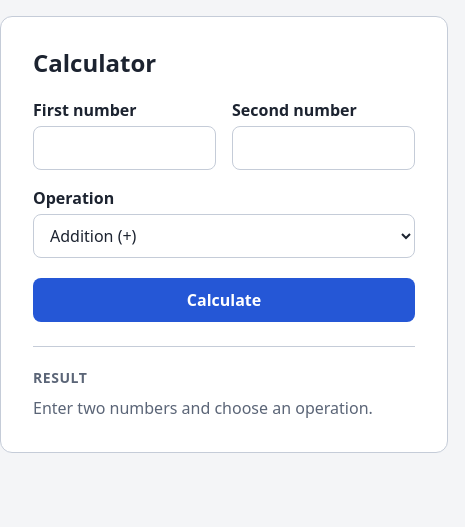
Test: Calculator › sends decimals and negatives as numbers
Type "-1.5" into the field labelled "First number".
click(124, 148); type("-1.5")  # box [33,126,216,170]
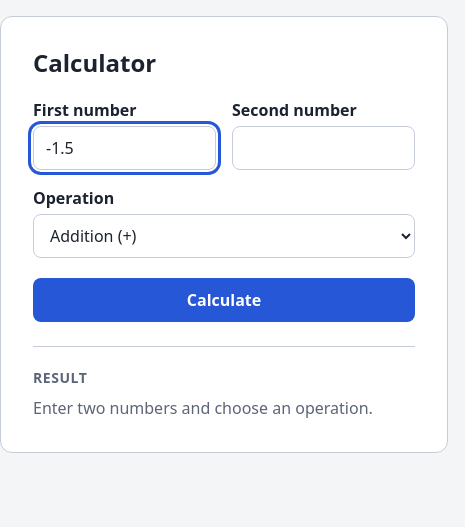
Type " 2.25 " into the field labelled "Second number".
click(324, 148); type(" 2.25 ")  # box [232,126,415,170]
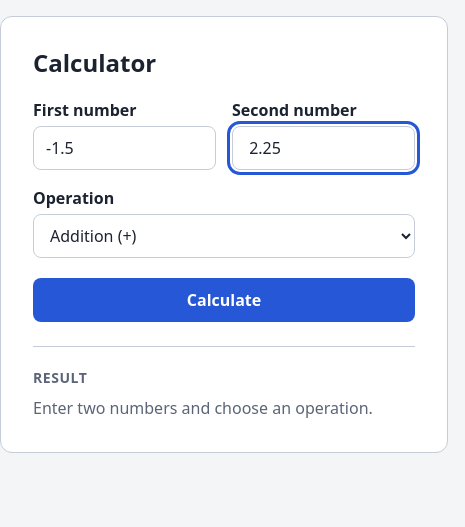
Click the button "Calculate".
click(224, 300)  # box [33,278,415,322]
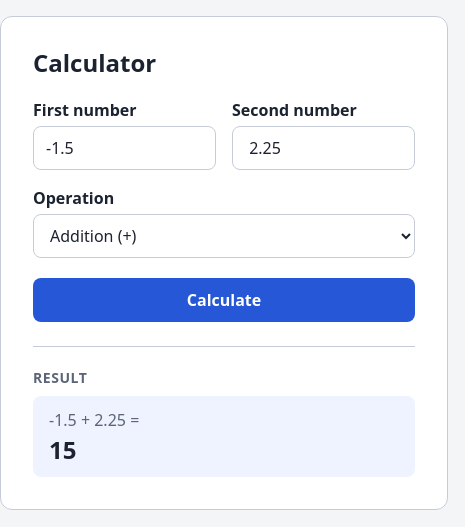
Check: the message "-1.5 + 2.25 = 15" is shown, box [33,396,415,477]
